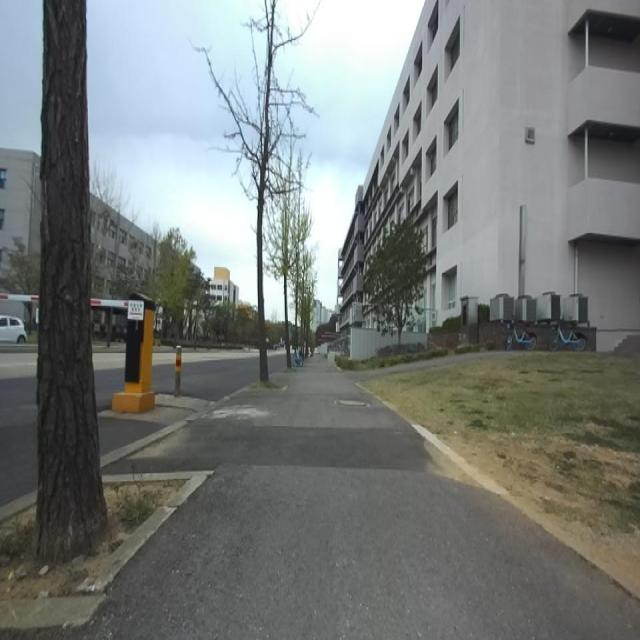sidewalk: (74, 357, 640, 639), (100, 419, 191, 467), (423, 440, 482, 488), (0, 491, 36, 522)
